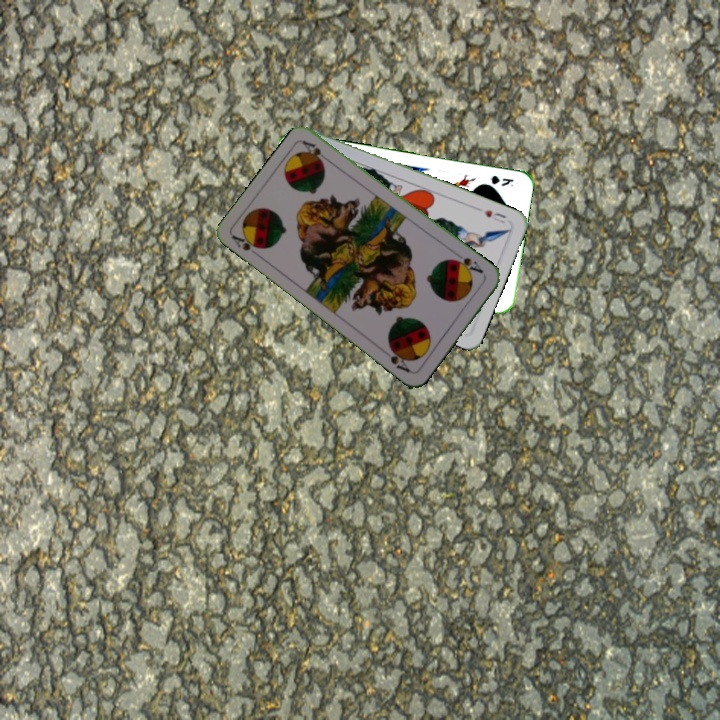GK: (487, 171, 516, 189)
HU: (480, 206, 509, 226)
SA: (228, 228, 266, 259), (449, 253, 486, 277)
